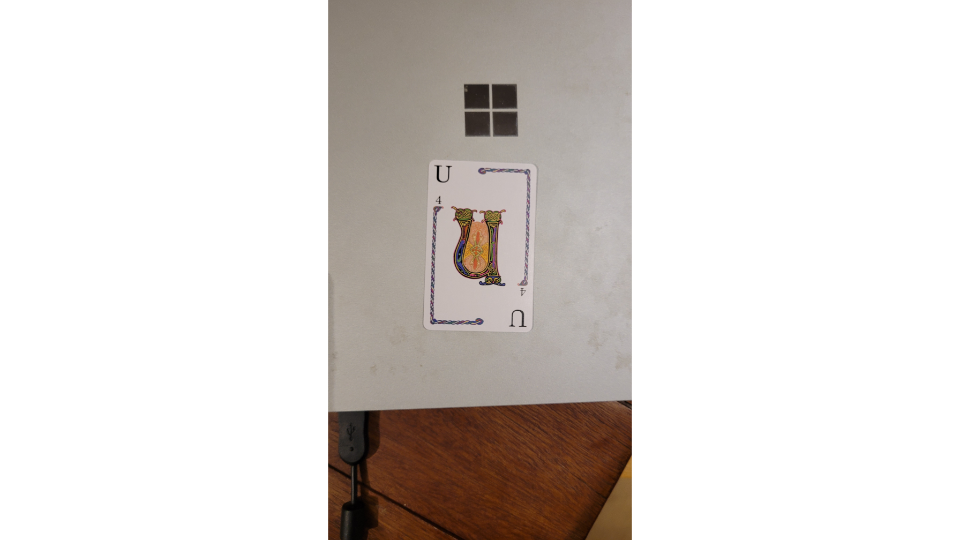U: (420, 156, 540, 337)
